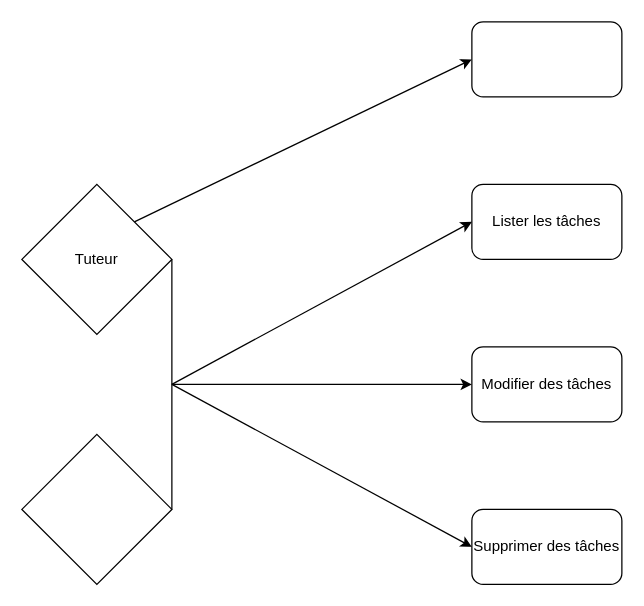
The diagram is 644 pixels wide and 606 high, and some of its shapes have lost their labels. The shapes that lost their labels are listed below. From the top down, each one's centre as x and y in pixels, then its label:
(x=546, y=59): Créer des tâches pour lui ou pour un élève
(x=96, y=508): Elève
